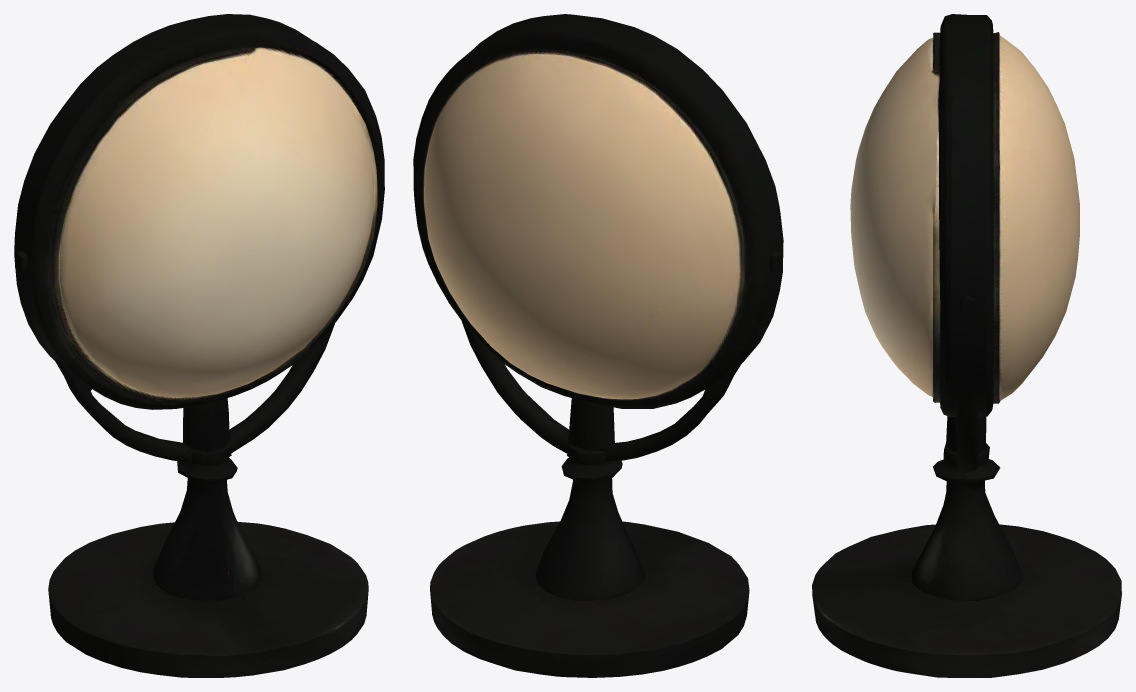
File: m2SignalOrbLamp.glb
3 renders of one model, left to right at view 1: azimuth 30°, elevation 25°; view 2: azimuth 150°, elevation 25°; view 3: azimuth 270°, elevation 25°, orthographic. The views are drawn at different scales.
Parts seen in each view (by area): view 1: model; view 2: model; view 3: model.
Boxes of the visible parts, x1,y1,x2,y2 form: model: (14,14,384,677); model: (413,14,783,677); model: (812,14,1121,677).
Size of the model in its own units: 1.22 by 1.89 by 0.9229.
Materials: 1 (1 with a texture image).
